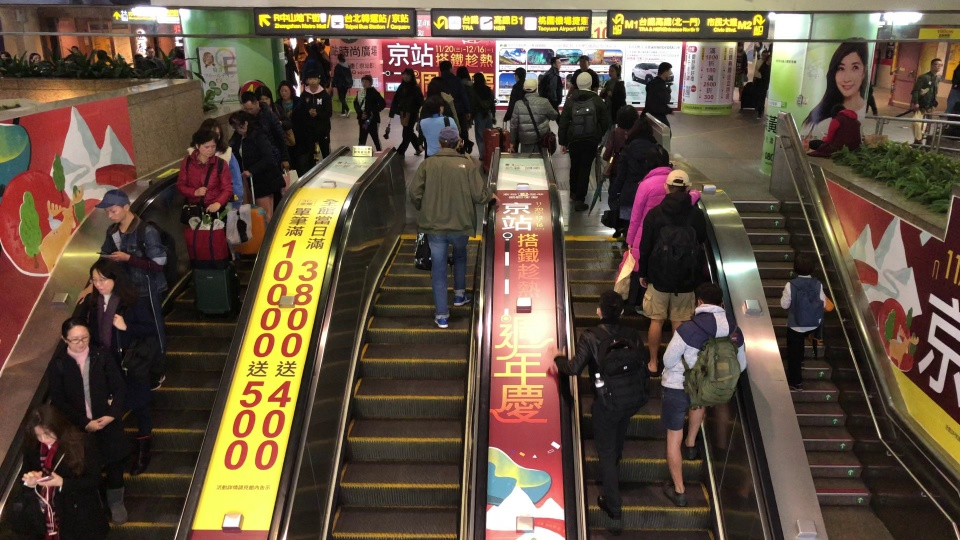person_head: (28, 391, 63, 446), (93, 188, 131, 222), (88, 257, 119, 293), (61, 317, 90, 353), (624, 116, 656, 146), (595, 290, 624, 323), (662, 169, 690, 198), (199, 118, 222, 152), (190, 129, 217, 157), (645, 143, 670, 169), (695, 285, 723, 308), (617, 105, 639, 130), (437, 127, 460, 150), (228, 111, 250, 134), (792, 255, 814, 278), (254, 86, 273, 107), (241, 91, 259, 113), (655, 62, 673, 81), (427, 95, 444, 114), (278, 80, 295, 98), (576, 72, 592, 90), (400, 68, 417, 84), (522, 78, 539, 94), (306, 70, 320, 88), (455, 66, 471, 81), (830, 104, 847, 118), (929, 58, 944, 73), (439, 60, 453, 76), (609, 63, 622, 79), (473, 72, 487, 86), (431, 76, 445, 89), (513, 68, 526, 82), (360, 75, 373, 88), (578, 55, 590, 69), (550, 56, 561, 69), (29, 52, 41, 63), (171, 49, 185, 57), (309, 47, 319, 57), (114, 54, 125, 63), (736, 41, 745, 52), (145, 47, 155, 56), (0, 51, 11, 59), (760, 49, 768, 59), (337, 55, 345, 63), (767, 53, 773, 63)
person_vbox: (75, 190, 175, 439), (554, 291, 646, 521), (662, 286, 747, 506), (408, 129, 500, 331), (60, 261, 122, 540), (638, 169, 704, 376), (20, 390, 106, 539), (629, 146, 701, 314), (87, 253, 131, 526), (778, 254, 834, 391), (228, 111, 286, 223), (563, 71, 609, 211), (199, 117, 244, 258), (610, 116, 657, 238), (175, 129, 233, 213), (604, 104, 640, 238), (427, 61, 472, 153), (508, 78, 557, 154), (241, 91, 290, 164), (388, 68, 424, 162), (299, 69, 331, 171), (804, 104, 863, 158), (911, 57, 945, 141), (254, 86, 290, 164), (641, 62, 675, 143), (353, 75, 386, 151), (420, 95, 460, 155), (274, 79, 300, 164), (538, 56, 563, 144), (472, 70, 496, 158), (504, 68, 525, 153), (430, 76, 461, 133), (564, 54, 599, 102), (599, 63, 627, 123), (455, 65, 474, 152), (331, 53, 354, 119), (302, 47, 331, 92), (755, 52, 774, 119), (731, 41, 748, 101), (752, 48, 769, 82), (171, 47, 187, 74)
